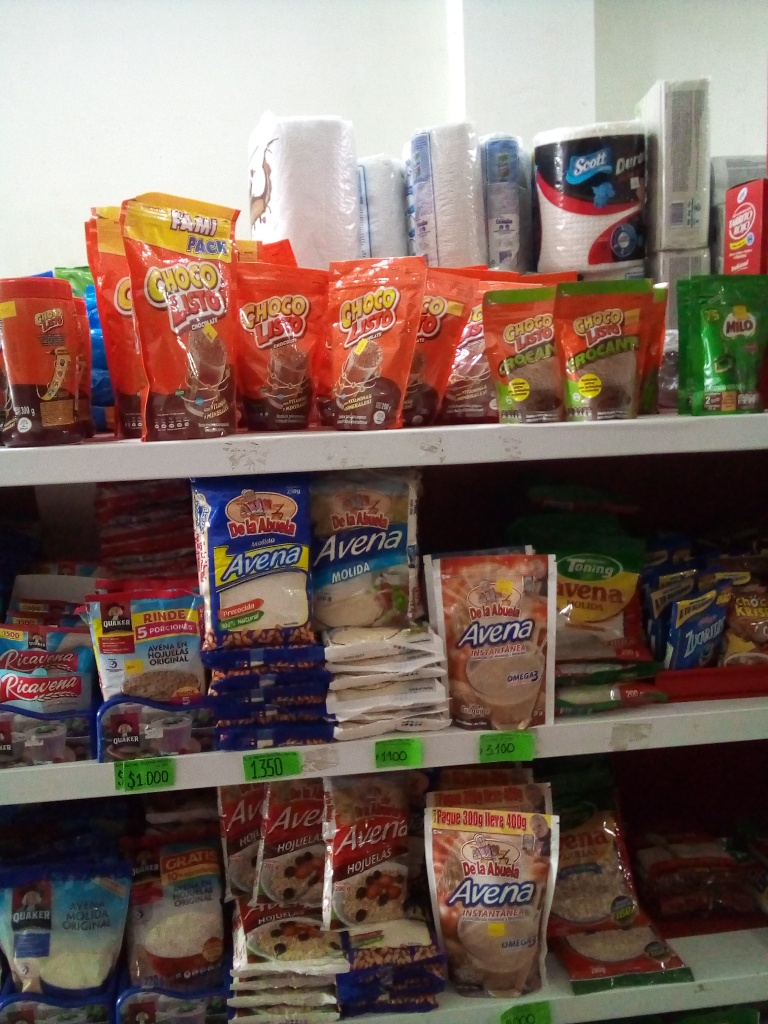COL0170102DYP10000: (560, 277, 653, 425)
COL0170103DYP20000: (320, 260, 432, 432)
COL0170103DYP36000: (117, 193, 242, 437)
COL0170103TRR30000: (0, 274, 91, 445)
COL0170203DYP10000: (688, 274, 767, 412)
